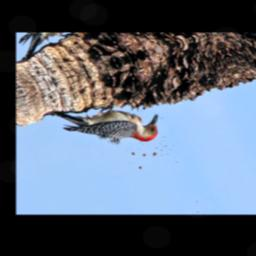Woodpecker: (48, 82, 169, 164)
